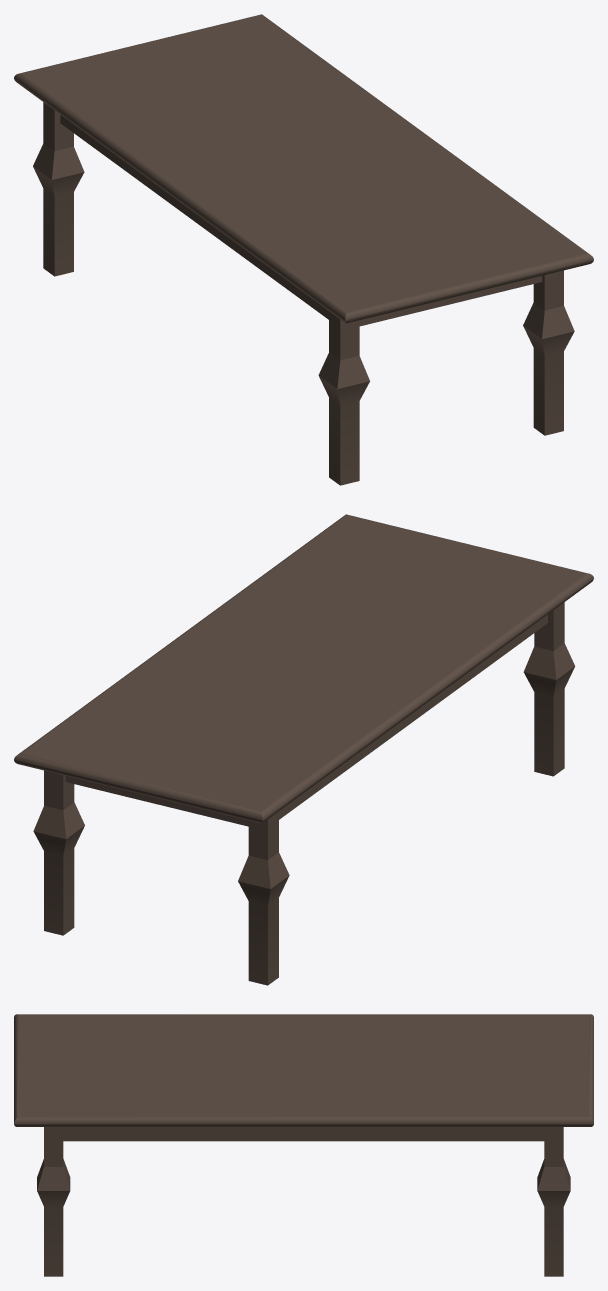
File: GrandeTable_52.fbx
The picture shows the model from 3 angles, top to bottom: view 1: azimuth 30°, elevation 25°; view 2: azimuth 150°, elevation 25°; view 3: azimuth 270°, elevation 25°; orthographic projection. The views are drawn at different scales.
Parts seen in each view (by area): view 1: pCube95, polySurface21, polySurface20, polySurface22; view 2: pCube95, polySurface22, polySurface23, polySurface21; view 3: pCube95, polySurface23, polySurface20.
Part boxes in pixels (<box>): pCube95: <box>14,14,593,326</box>; polySurface21: <box>318,311,369,485</box>; polySurface20: <box>523,270,574,435</box>; polySurface22: <box>33,102,84,276</box>; pCube95: <box>14,514,593,826</box>; polySurface22: <box>238,811,289,985</box>; polySurface23: <box>33,770,84,935</box>; polySurface21: <box>523,602,575,776</box>; pCube95: <box>14,1014,593,1141</box>; polySurface23: <box>537,1127,570,1276</box>; polySurface20: <box>37,1127,70,1276</box>.
Bounding box in the file's own units: 56.59 × 40.5 × 130.
